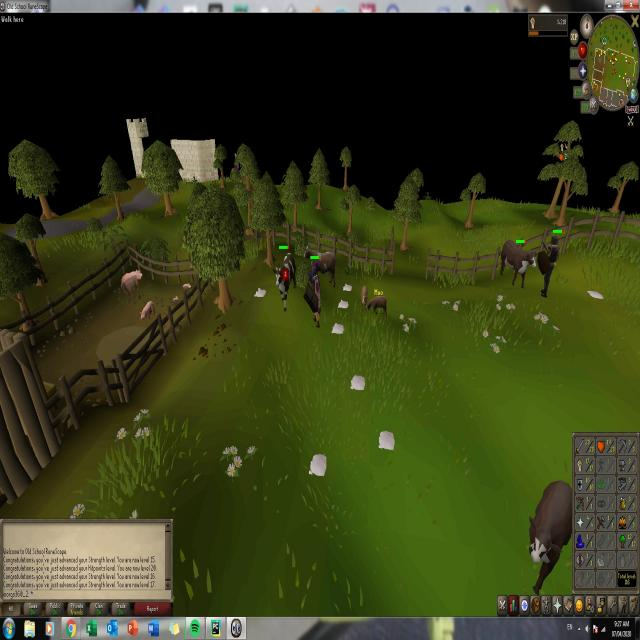cow: (526, 472, 572, 592), (501, 239, 536, 287), (273, 252, 296, 310), (318, 245, 336, 284), (366, 294, 389, 318), (359, 283, 370, 313)
player: (310, 264, 322, 328)
